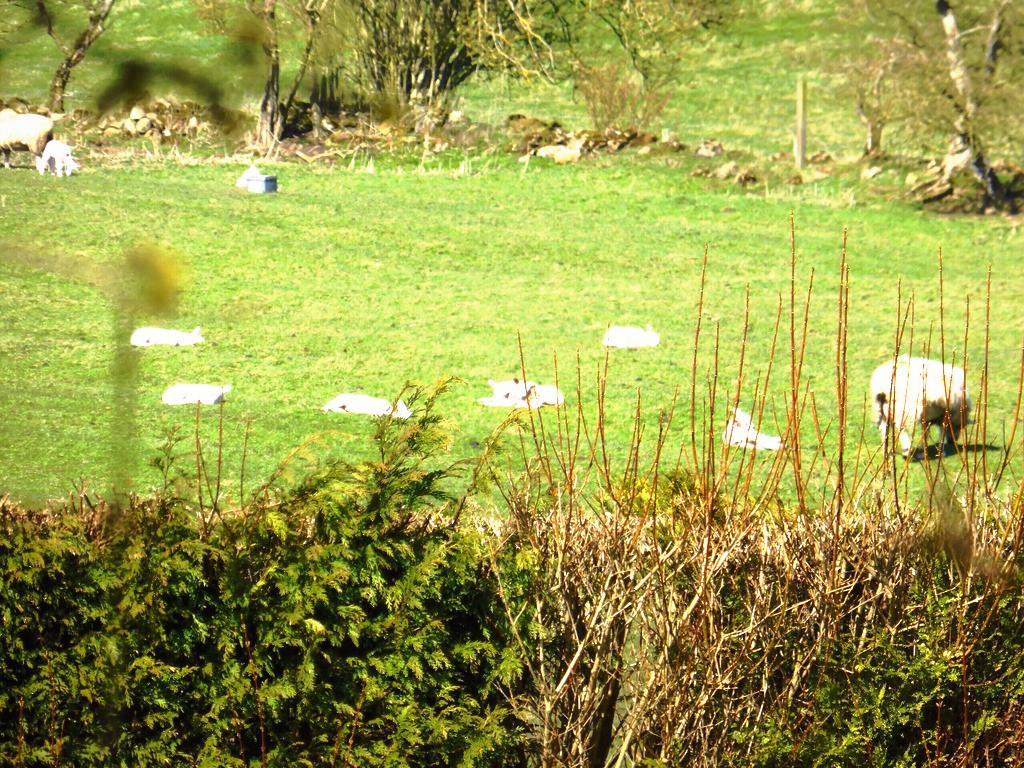Sheep: (871, 312, 981, 482), (0, 114, 52, 168), (721, 409, 787, 451), (480, 378, 563, 408), (322, 398, 412, 418), (128, 320, 202, 344), (162, 384, 232, 405), (36, 142, 78, 175), (602, 326, 660, 347), (237, 163, 258, 187)
